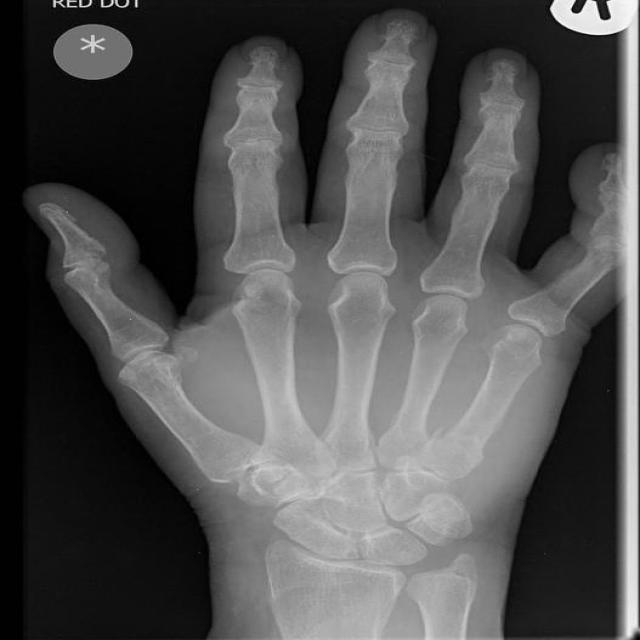fracture: (438, 428, 490, 469)
